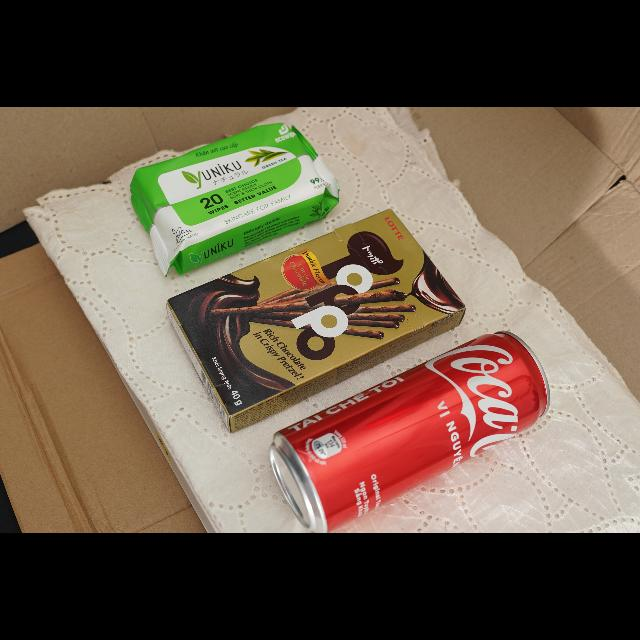banh_toppo_socola: (167, 209, 465, 432)
coca_cola: (270, 332, 550, 532)
khan_giay: (131, 123, 339, 274)
